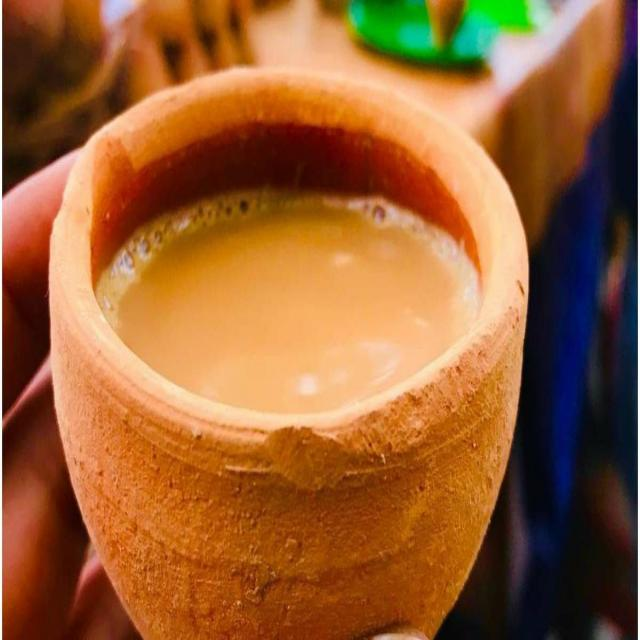Chai: (95, 185, 482, 425)
